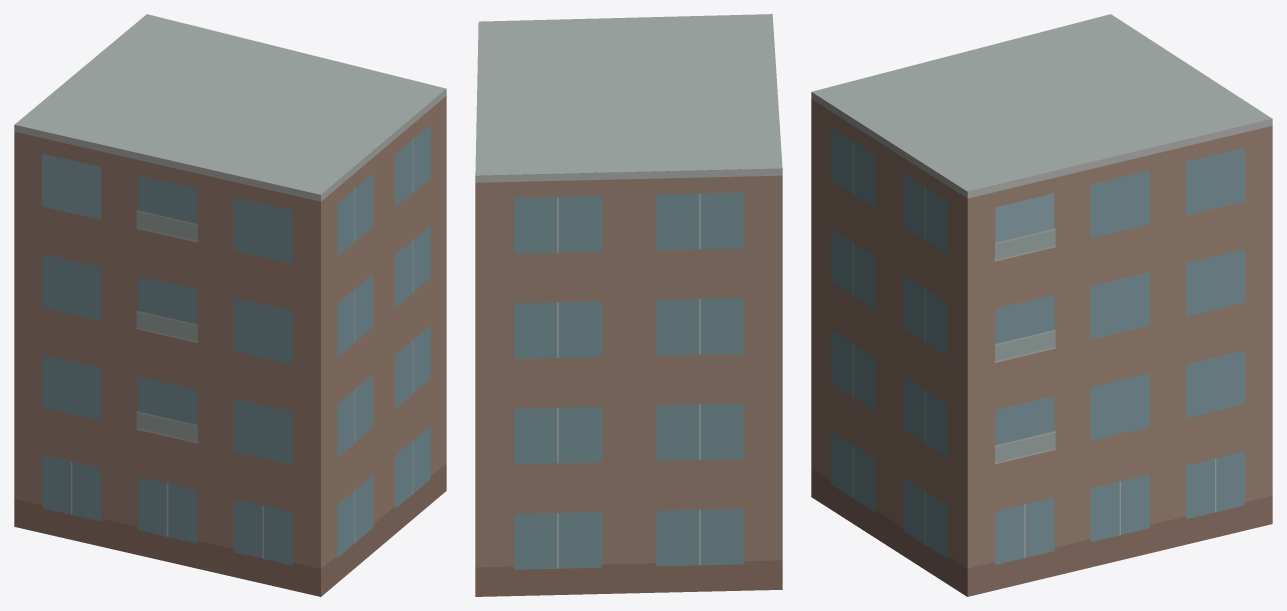
Rendered from survey-upis-33007366.glb.
3 renders of one model, left to right at view 1: azimuth 30°, elevation 25°; view 2: azimuth 150°, elevation 25°; view 3: azimuth 270°, elevation 25°, orthographic. The views are drawn at different scales.
Visible parts, largest first — view 1: survey-upis-33007366.tmp; view 2: survey-upis-33007366.tmp; view 3: survey-upis-33007366.tmp.
Part boxes in pixels (left/top/right/bottom): survey-upis-33007366.tmp: left=14, top=14, right=446, bottom=596; survey-upis-33007366.tmp: left=475, top=14, right=782, bottom=596; survey-upis-33007366.tmp: left=811, top=14, right=1272, bottom=596.
Size of the model in its own units: 13.36 by 14.2 by 14.66.
